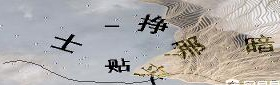chinese: (49, 28, 83, 57), (245, 33, 277, 60), (175, 34, 204, 61), (107, 55, 133, 80), (144, 16, 171, 38), (140, 65, 166, 85)
